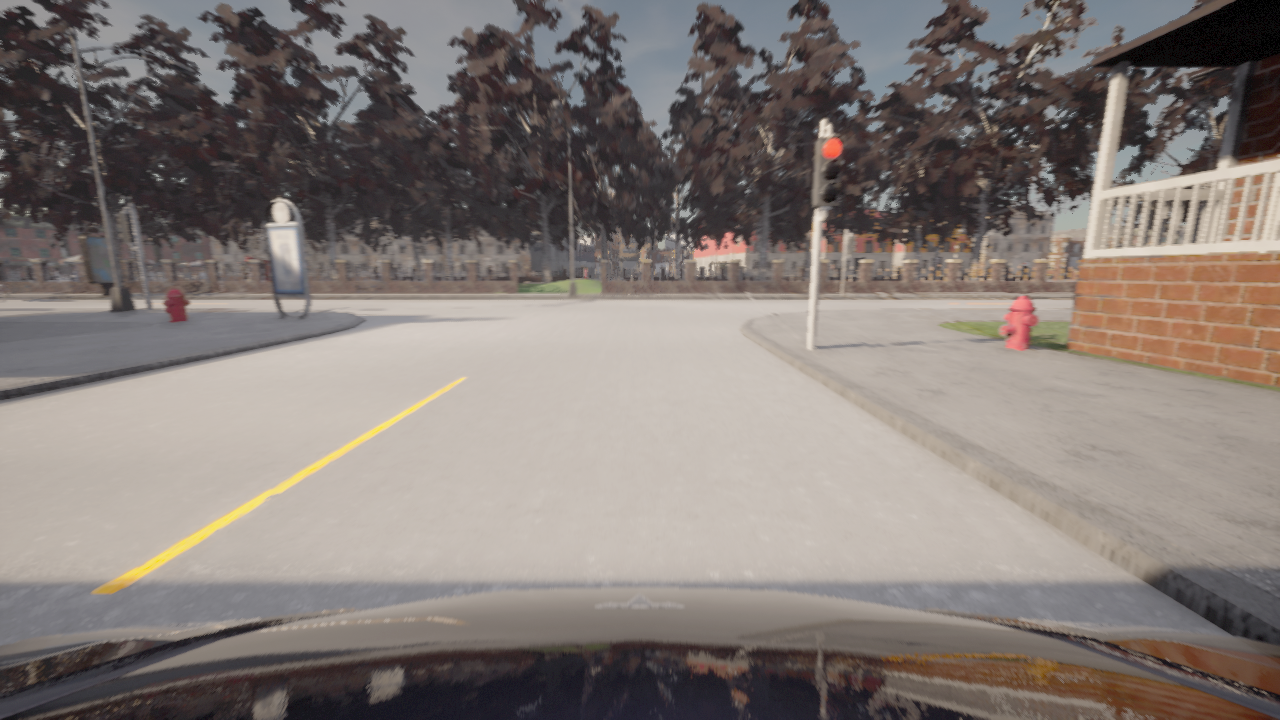cyclist: (0, 588, 1279, 719)
